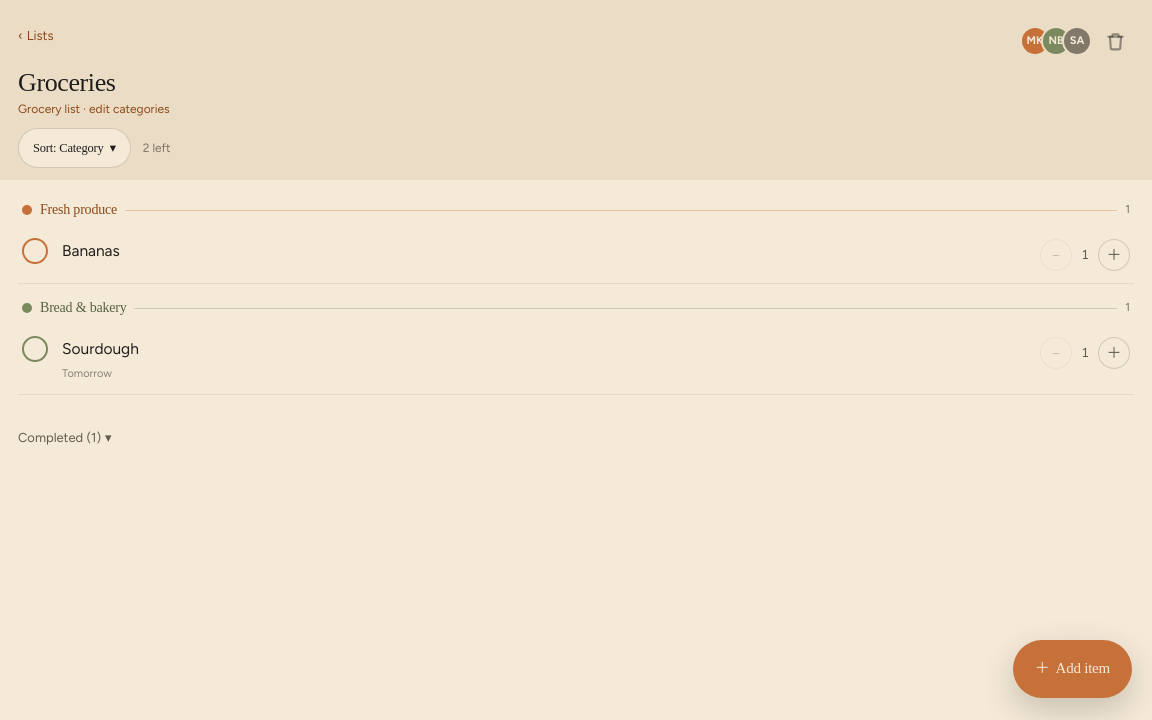
Test case: ListDetailScreen deletion › backs out without sending anything
The width and height of the screenshot is (1152, 720).
Expected: the heading "Groceries" is shown, left=18, top=68, right=116, bottom=97
Click the button named "Delete Groceries" at (1115, 41), box left=1096, top=22, right=1134, bottom=60
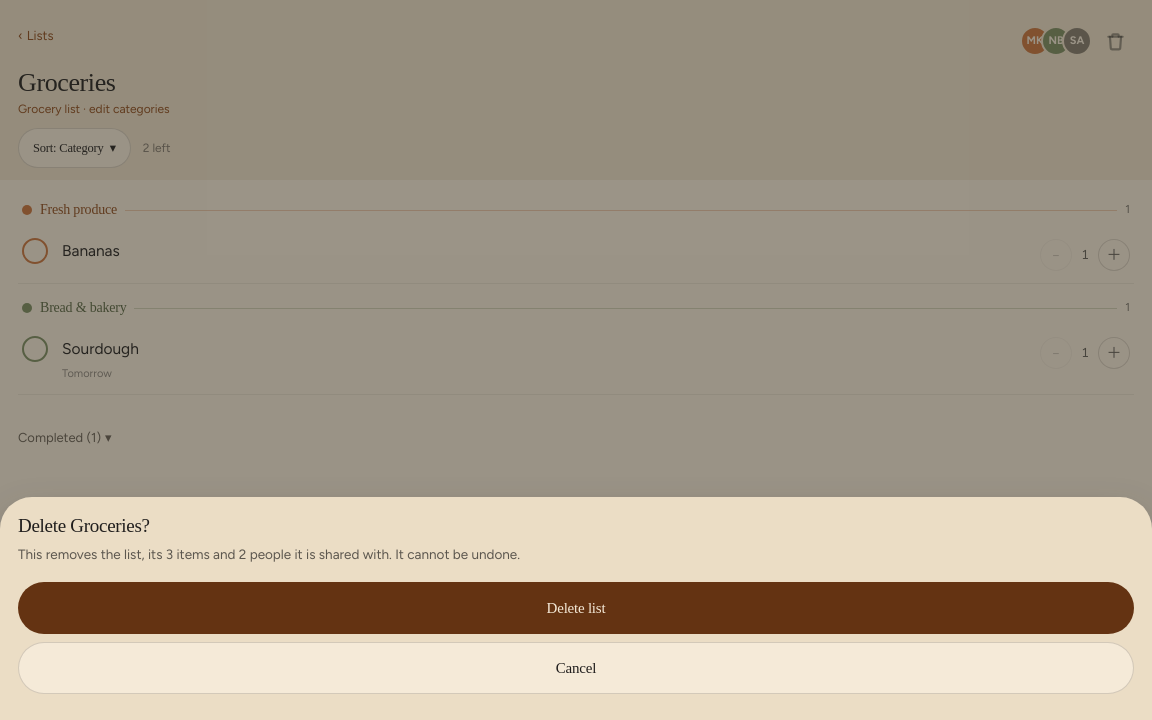
Click the button "Cancel" at (576, 668), box left=18, top=642, right=1134, bottom=694
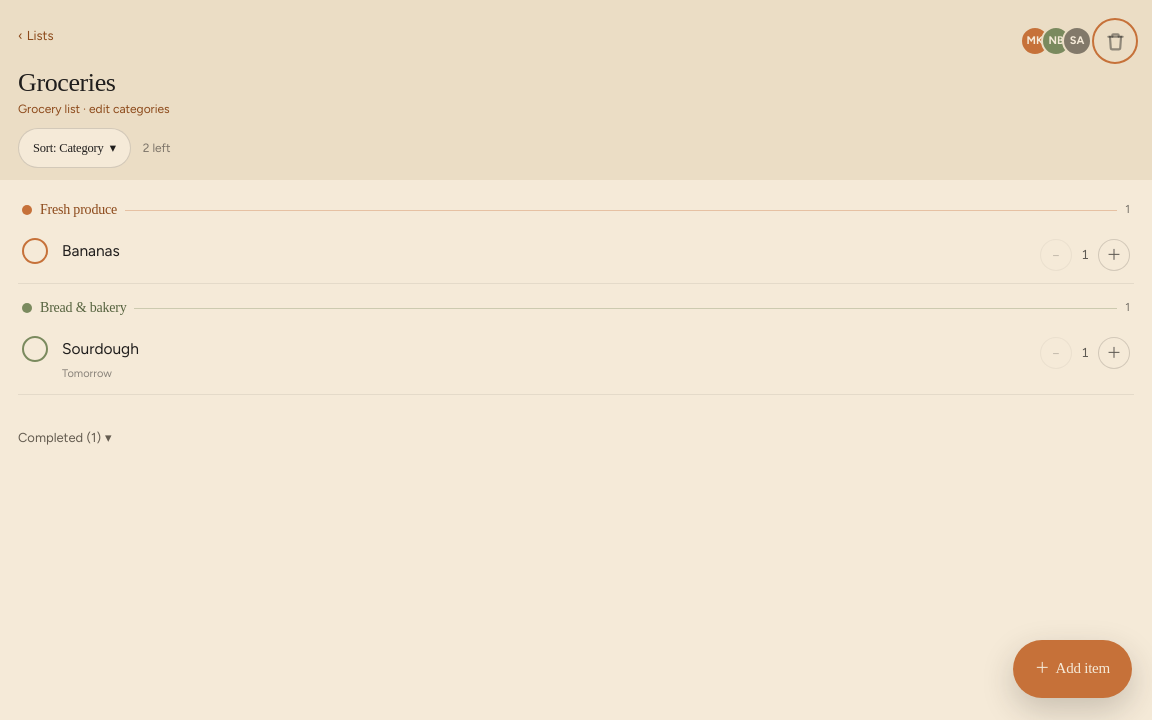
Expected: the dialog is gone
